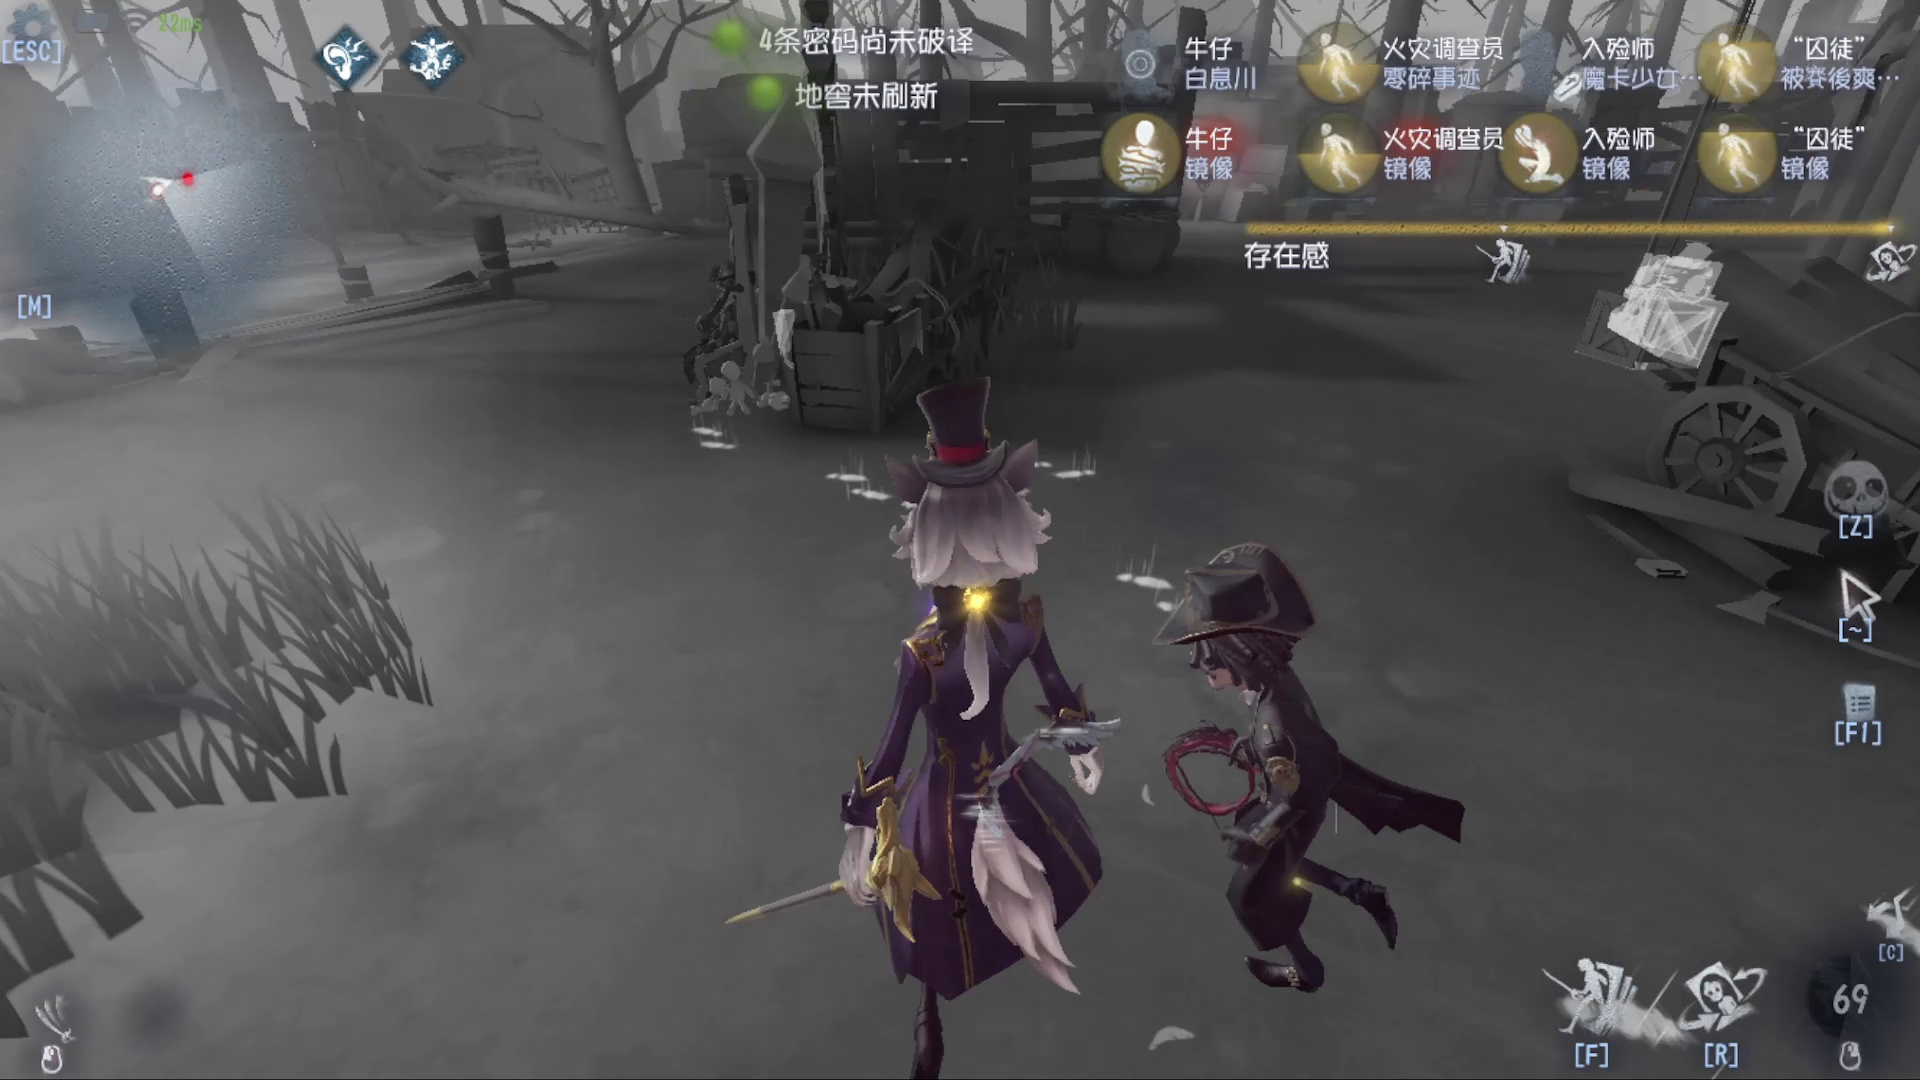求生者: (1182, 534, 1423, 996)
狂欢之椅: (670, 111, 860, 419)
